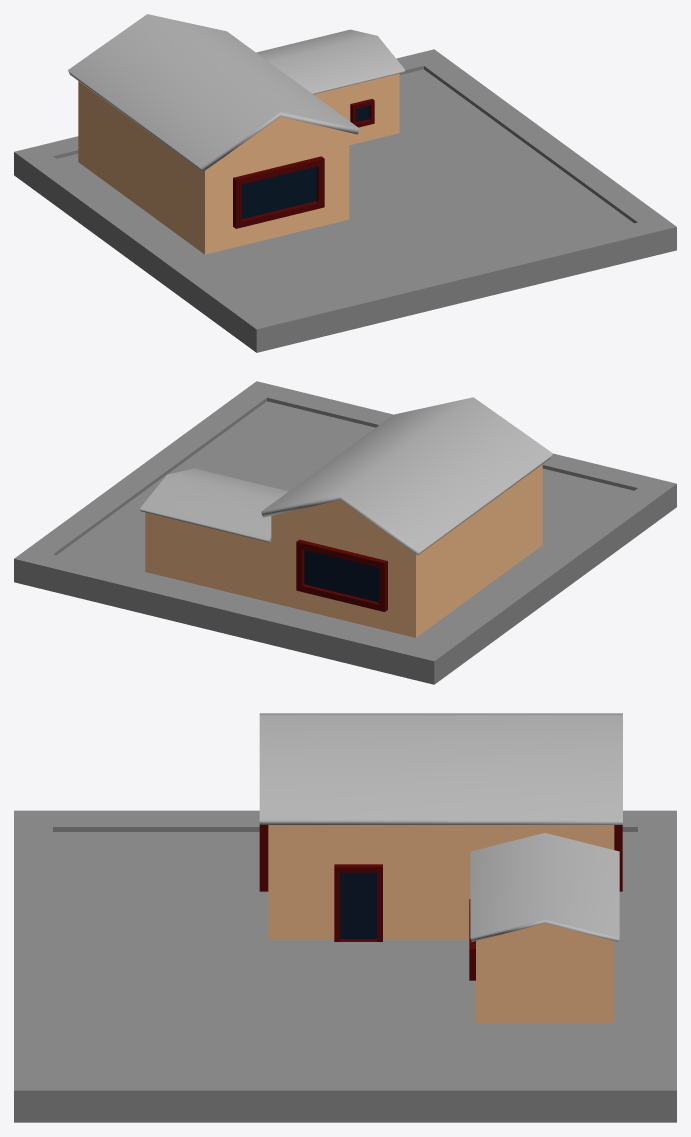
Rendered from House_Model.fbx.
3 renders of one model, top to bottom at view 1: azimuth 30°, elevation 25°; view 2: azimuth 150°, elevation 25°; view 3: azimuth 270°, elevation 25°, orthographic. The views are drawn at different scales.
Visible parts, largest first — view 1: pCube7, pCube1, pCube2, pCube5; view 2: pCube7, pCube1, pCube3; view 3: pCube7, pCube1, pCube6, pCube2.
Boxes of the visible parts, x1,y1,x2,y2 form: pCube7: (14, 49, 676, 352); pCube1: (68, 14, 404, 254); pCube2: (233, 156, 324, 228); pCube5: (350, 98, 374, 127); pCube7: (14, 381, 676, 684); pCube1: (140, 397, 552, 637); pCube3: (296, 539, 387, 611); pCube7: (14, 810, 676, 1122); pCube1: (259, 713, 622, 1023); pCube6: (334, 864, 382, 941); pCube2: (259, 825, 268, 891).
Bounding box in the file's own units: 22.06 × 7.42 × 22.06.
